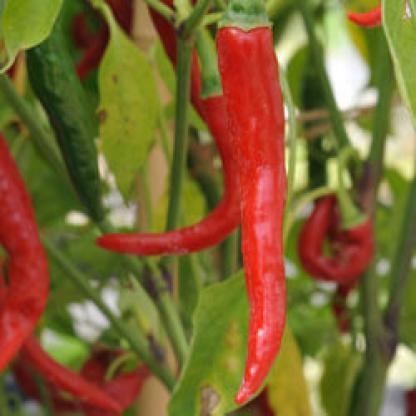chili: (210, 17, 295, 408)
